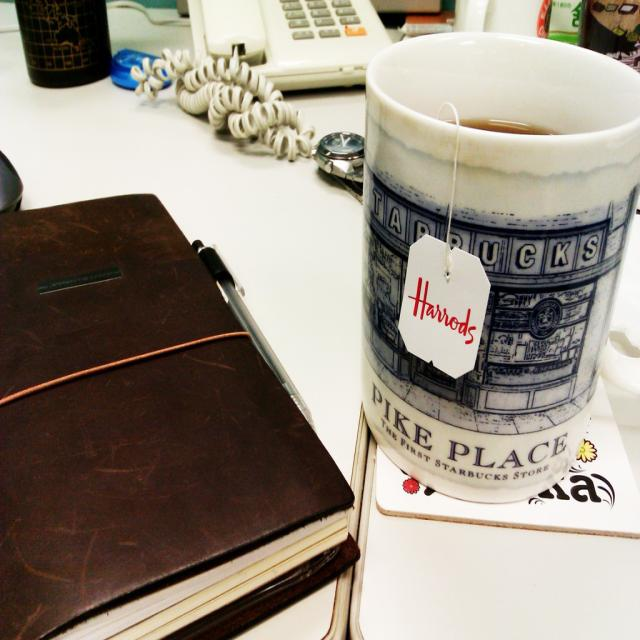Book: (0, 193, 350, 639)
